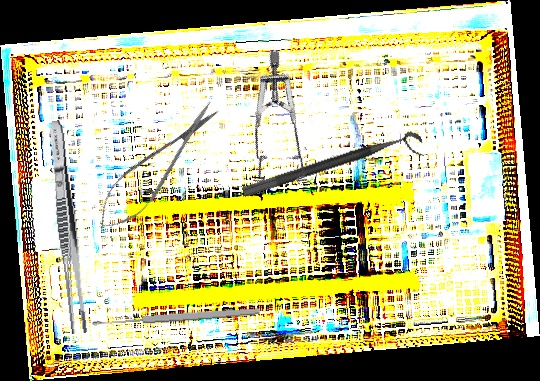Dressing Forceps: (44, 119, 91, 335)
Fixation Ring: (241, 128, 427, 213)
Micro Scissor: (85, 91, 230, 243)
Speculum: (209, 47, 358, 205)
Surgical Spoon: (91, 306, 261, 328)
